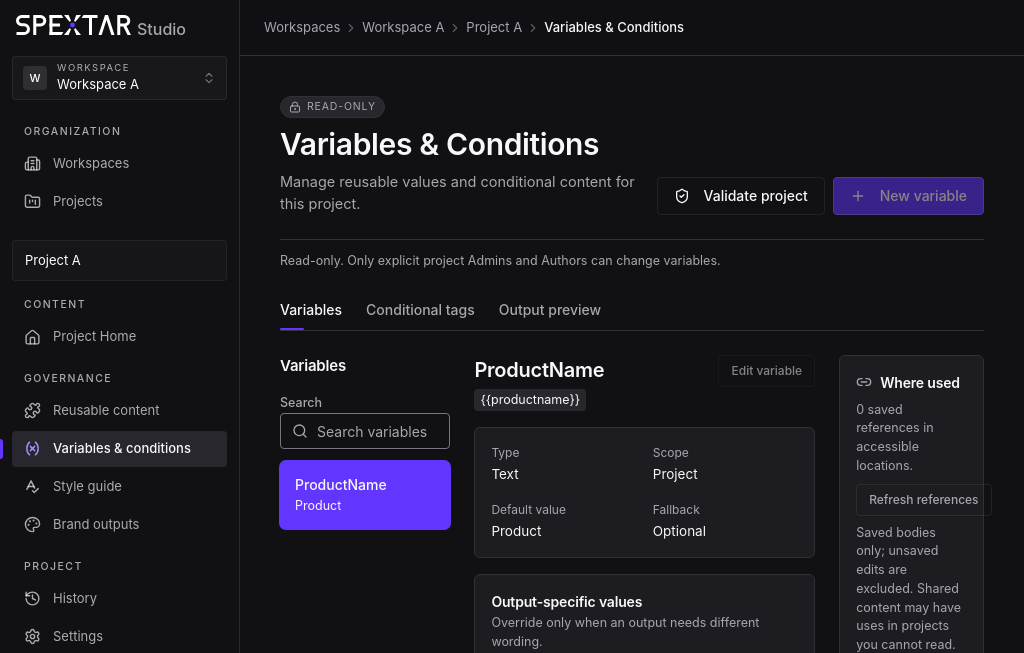
Variables & Conditions project route › keeps reviewer and inherited Workspace Admin read-only, without blocking search/validation
Expected: the text with test id "text-variable-default" is shown, [491,522,541,538]
Expected: the button with test id "button-new-variable" is disabled, [833,177,984,215]
Type "Product" into the search field labelled "Search".
click(365, 431); type("Product")  # box [280,413,450,449]
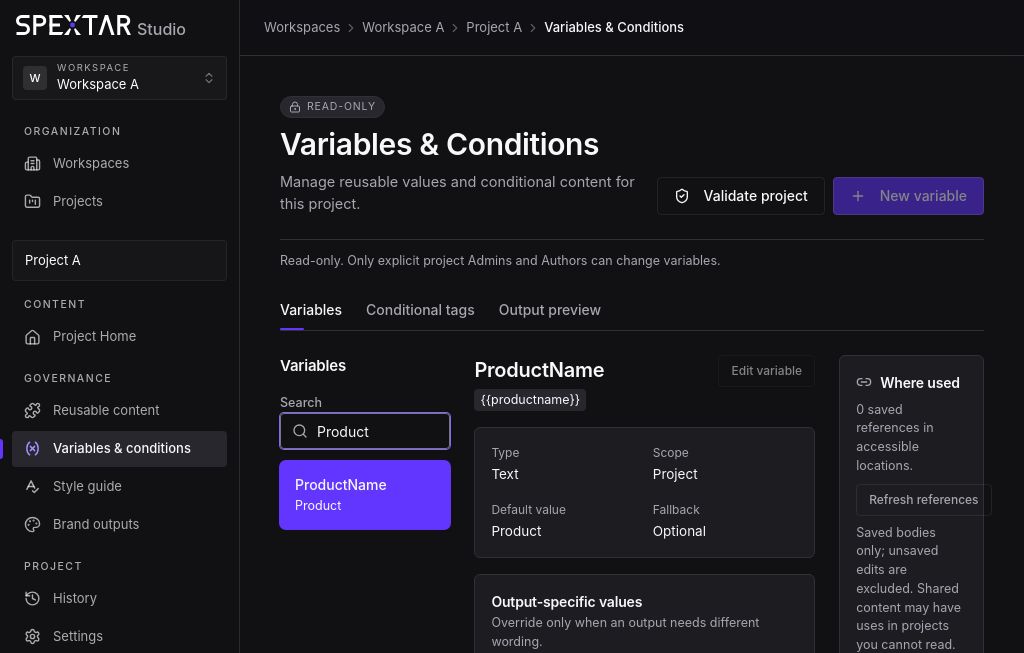
Click the button with test id "button-validate-project".
click(741, 196)  # box [656,177,825,215]
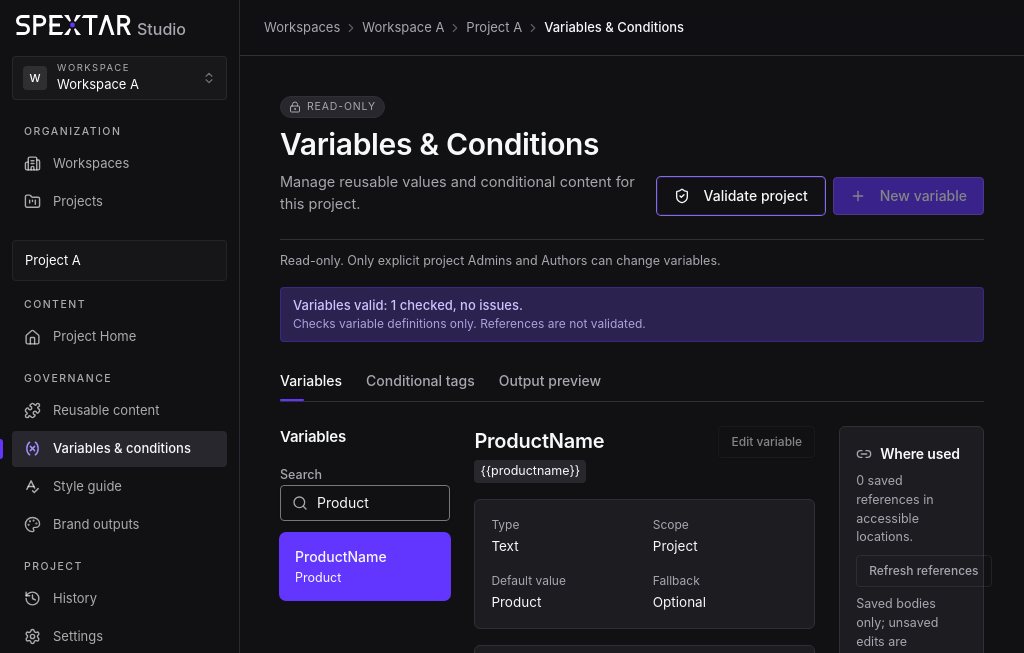
Now the message with test id "text-validation-summary" shows "Variables valid: 1 checked, no issues.", box [293,296,523,312]
